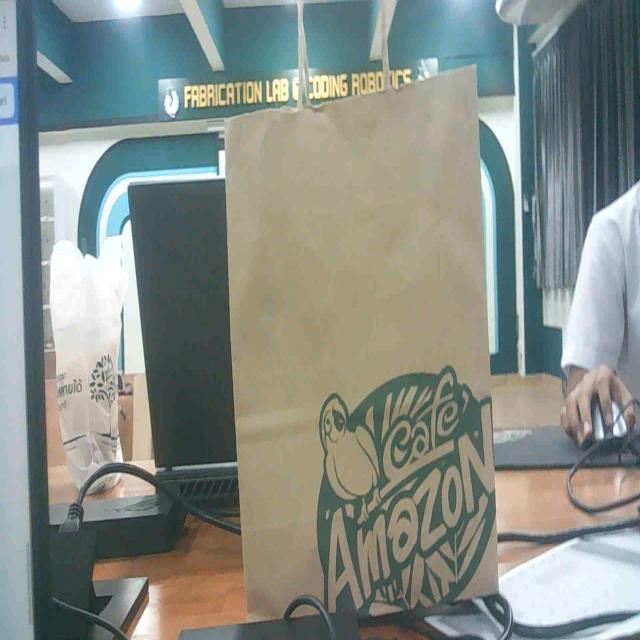bag: (207, 92, 516, 619)
